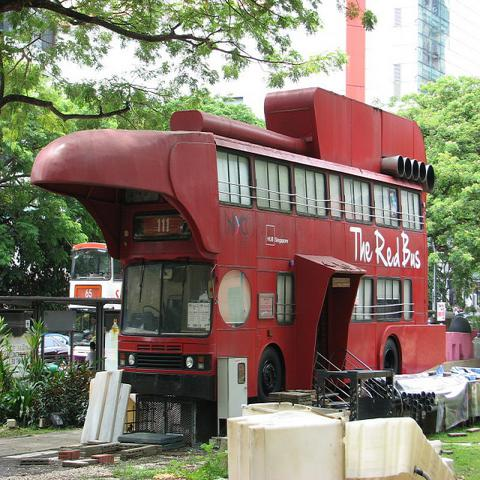bus: (24, 88, 444, 404), (68, 243, 123, 313)
car: (38, 336, 69, 370), (72, 346, 94, 364), (44, 334, 70, 346)
